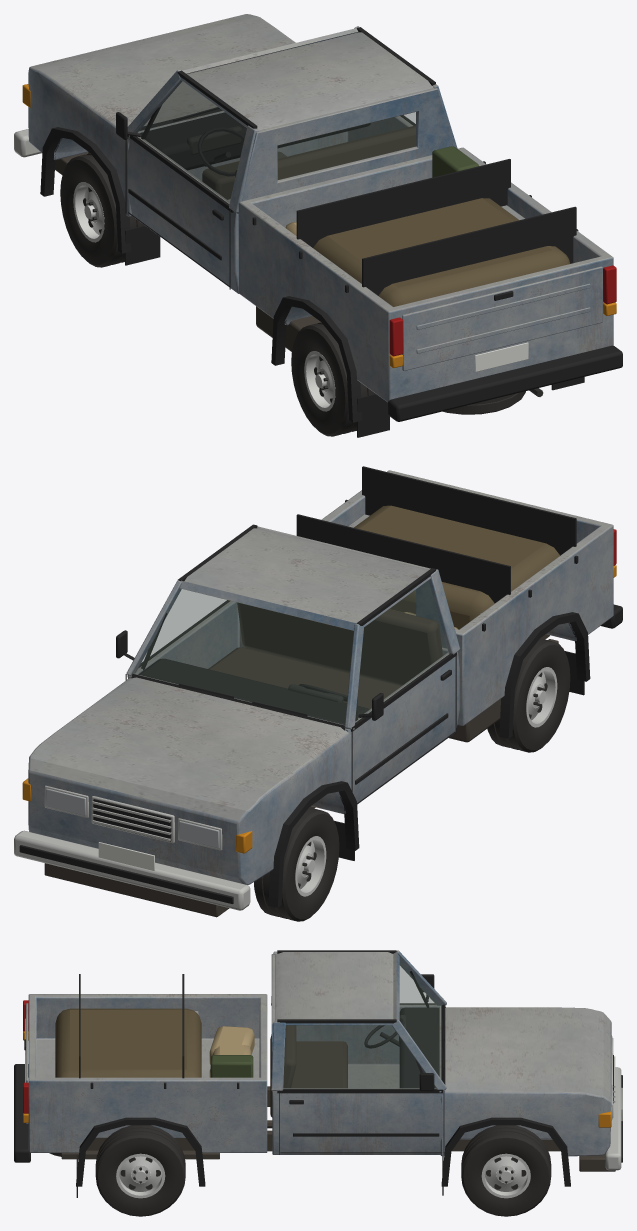
File: pickup.glb
3 views of the same model, one above another, from view 1: azimuth 30°, elevation 25°; view 2: azimuth 150°, elevation 25°; view 3: azimuth 270°, elevation 25° (orthographic). The views are drawn at different scales.
Parts seen in each view (by area): view 1: body, glass, wheel_rl, wheel_fl; view 2: body, glass, wheel_fl, wheel_rl; view 3: body, glass, wheel_rr, wheel_fr.
Boxes of the visible parts, x1=… form: body: x1=14, y1=14, x2=622, y2=437; glass: x1=137, y1=81, x2=415, y2=202; wheel_rl: x1=291, y1=322, x2=375, y2=436; wheel_fl: x1=60, y1=153, x2=144, y2=267; body: x1=14, y1=466, x2=622, y2=917; glass: x1=134, y1=580, x2=448, y2=724; wheel_fl: x1=254, y1=807, x2=339, y2=921; wheel_rl: x1=487, y1=638, x2=570, y2=752; body: x1=14, y1=950, x2=622, y2=1197; glass: x1=283, y1=962, x2=440, y2=1088; wheel_rr: x1=95, y1=1125, x2=185, y2=1216; wheel_fr: x1=461, y1=1125, x2=551, y2=1216.
Bounding box in the file's own units: 1.95 × 1.71 × 5.
16 materials, 1 textured.
